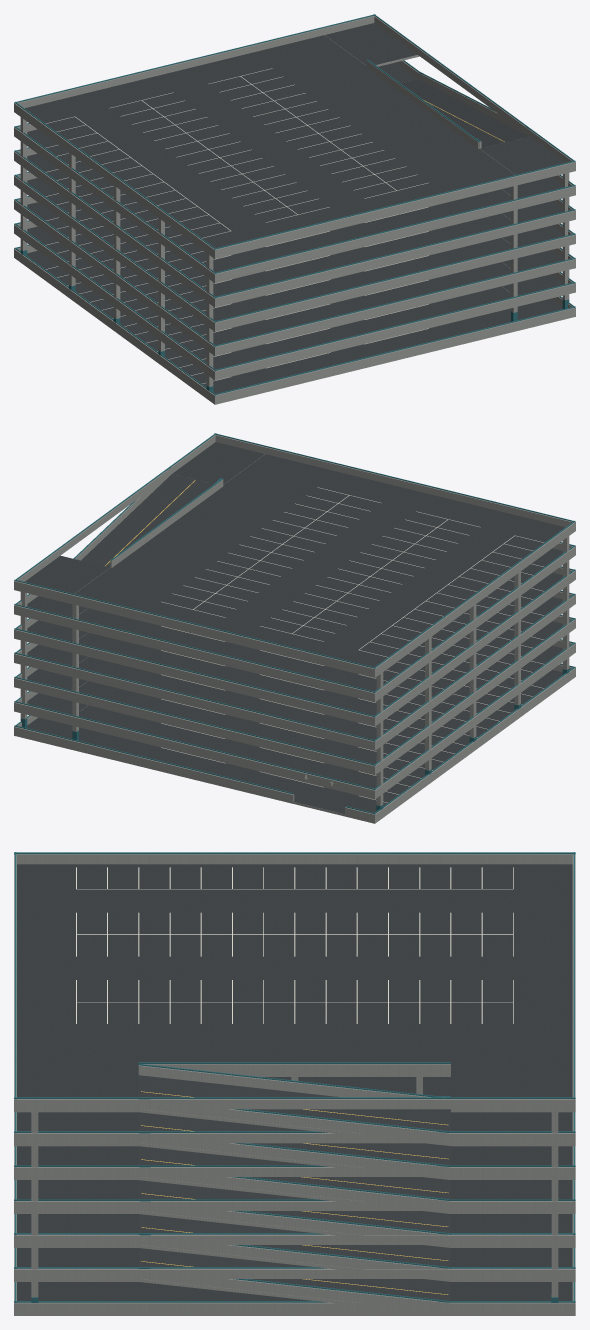
The model's file is large_07.glb.
3 renders of one model, top to bottom at view 1: azimuth 30°, elevation 25°; view 2: azimuth 150°, elevation 25°; view 3: azimuth 270°, elevation 25°, orthographic. The views are drawn at different scales.
Visible parts, largest first — view 1: large_07_Asphalt, large_07_Concrete, large_07_Teal, large_07_Paint; view 2: large_07_Asphalt, large_07_Concrete, large_07_Teal, large_07_Paint; view 3: large_07_Asphalt, large_07_Concrete, large_07_Teal, large_07_Paint, large_07_Yellow.
Boxes of the visible parts, left/top/right/bottom form: large_07_Asphalt: left=25, top=23, right=564, bottom=393; large_07_Concrete: left=14, top=15, right=575, bottom=404; large_07_Teal: left=14, top=14, right=575, bottom=395; large_07_Paint: left=45, top=68, right=428, bottom=383; large_07_Asphalt: left=25, top=442, right=564, bottom=814; large_07_Concrete: left=14, top=434, right=575, bottom=823; large_07_Teal: left=14, top=433, right=575, bottom=814; large_07_Paint: left=161, top=487, right=544, bottom=802; large_07_Asphalt: left=17, top=864, right=572, bottom=1300; large_07_Concrete: left=14, top=854, right=575, bottom=1315; large_07_Teal: left=14, top=852, right=575, bottom=1302; large_07_Paint: left=76, top=867, right=513, bottom=1023; large_07_Yellow: left=141, top=1091, right=448, bottom=1294.
Bounding box in the file's own units: 56 × 23.08 × 54.02.
6 materials, 2 textured.
